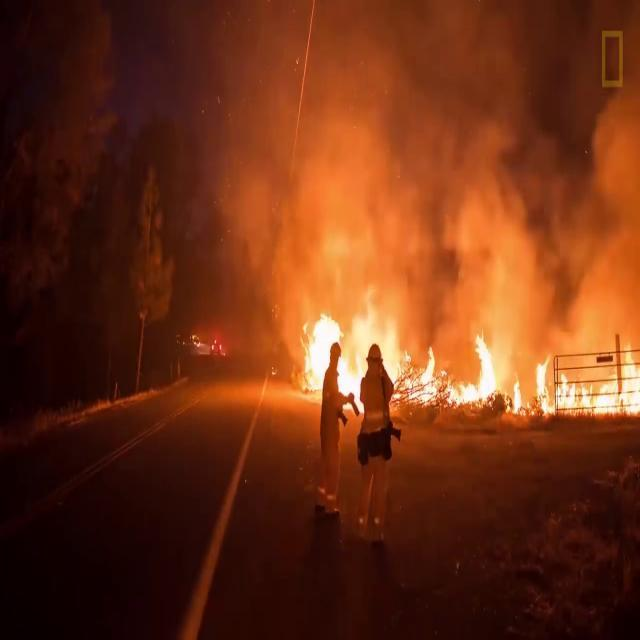Fire: (306, 322, 640, 412)
Smoke: (266, 13, 630, 300)
